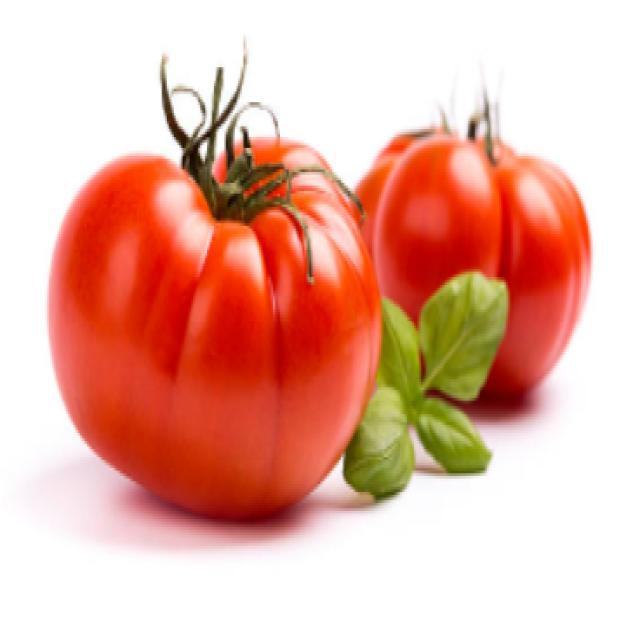Tomato: (53, 102, 383, 513), (328, 75, 590, 406)
